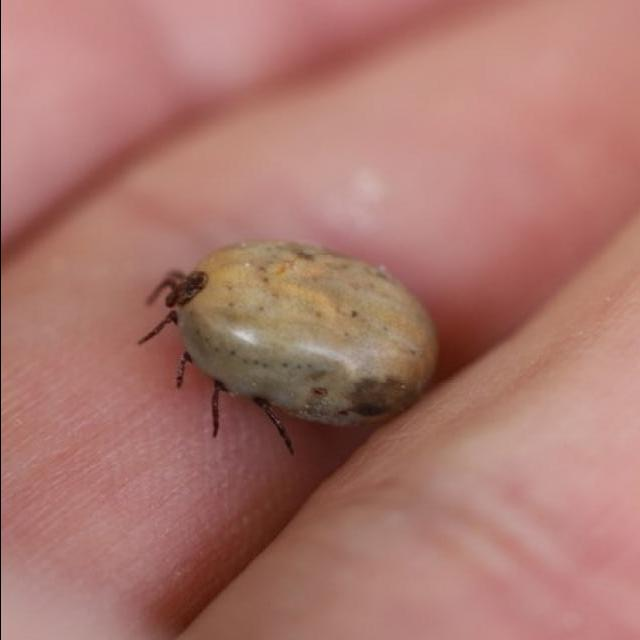Dermacentor Reticulatus-F-Fed: (137, 239, 443, 456)
